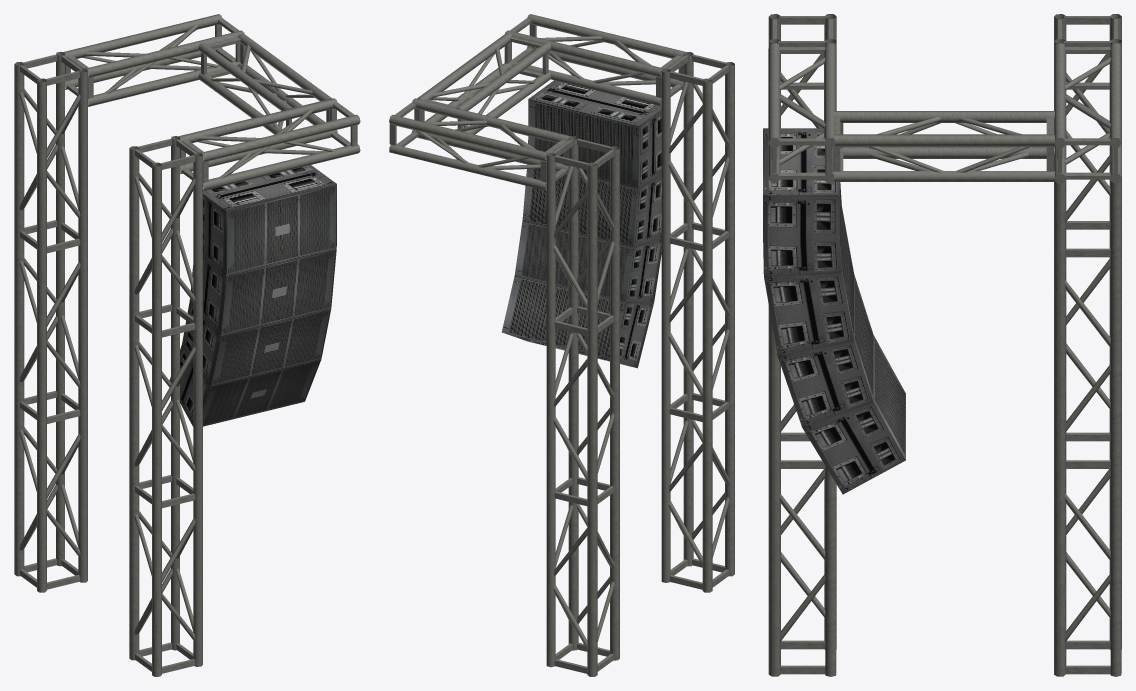
The model's file is Speaker_B_WithFrame_Left.fbx.
The picture shows the model from 3 angles, left to right: view 1: azimuth 30°, elevation 25°; view 2: azimuth 150°, elevation 25°; view 3: azimuth 270°, elevation 25°; orthographic projection. The views are drawn at different scales.
Visible parts, largest first — view 1: Speaker_Frame, Speaker; view 2: Speaker_Frame, Speaker; view 3: Speaker_Frame, Speaker.
Part boxes in pixels (<box>): Speaker_Frame: <box>14,14,360,676</box>; Speaker: <box>169,165,336,426</box>; Speaker_Frame: <box>389,14,734,676</box>; Speaker: <box>502,80,661,368</box>; Speaker_Frame: <box>768,14,1121,676</box>; Speaker: <box>763,128,905,494</box>.
Size of the model in its own units: 3.85 by 9.13 by 4.69.
